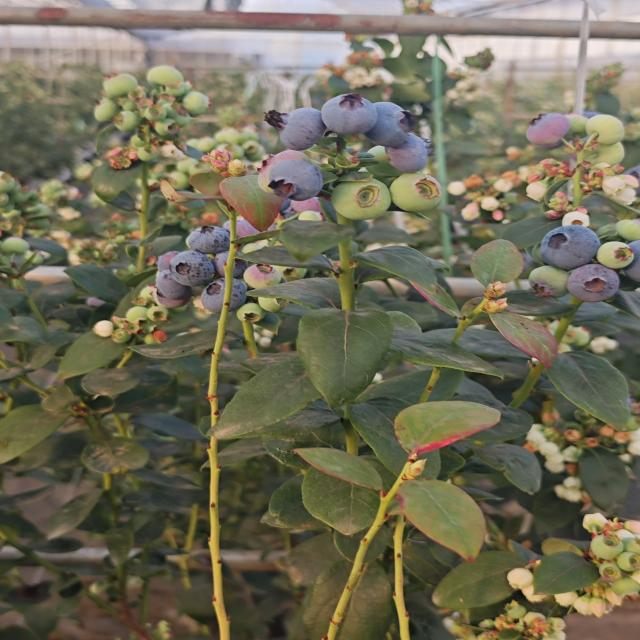ripe: (536, 223, 602, 272), (317, 91, 380, 139), (360, 99, 418, 151), (262, 157, 326, 204), (264, 104, 322, 151), (564, 262, 622, 304), (381, 130, 435, 173), (522, 110, 573, 150), (200, 275, 247, 312), (165, 254, 218, 286), (183, 228, 231, 254), (622, 231, 640, 284), (154, 271, 186, 299)
